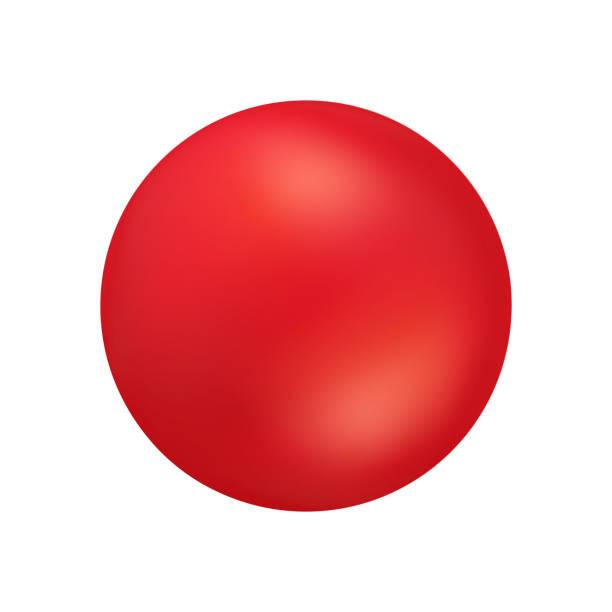red_circle: (73, 77, 537, 538)
